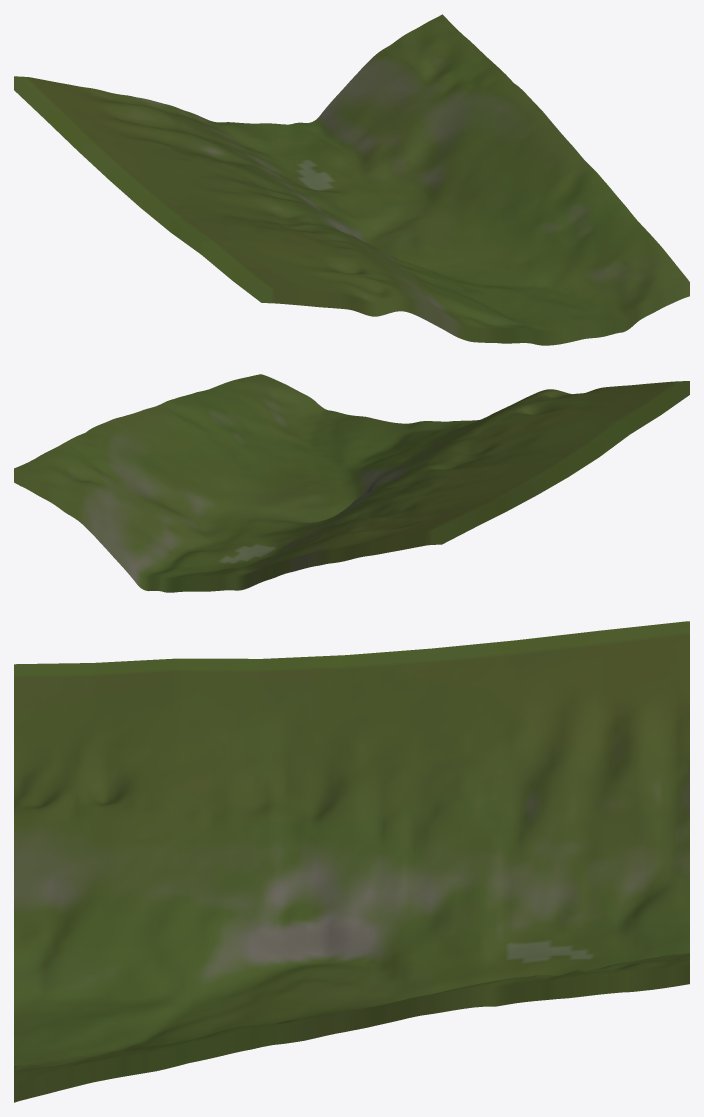
File: terrain_-2_0.glb
3 renders of one model, top to bottom at view 1: azimuth 30°, elevation 25°; view 2: azimuth 150°, elevation 25°; view 3: azimuth 270°, elevation 25°, orthographic. The views are drawn at different scales.
Visible parts, largest first — view 1: terrain_-2_0; view 2: terrain_-2_0; view 3: terrain_-2_0.
Part boxes in pixels (<box>): terrain_-2_0: <box>14,14,689,345</box>; terrain_-2_0: <box>14,374,689,592</box>; terrain_-2_0: <box>14,621,689,1102</box>.
Size of the model in its own units: 256 by 93.18 by 256.
